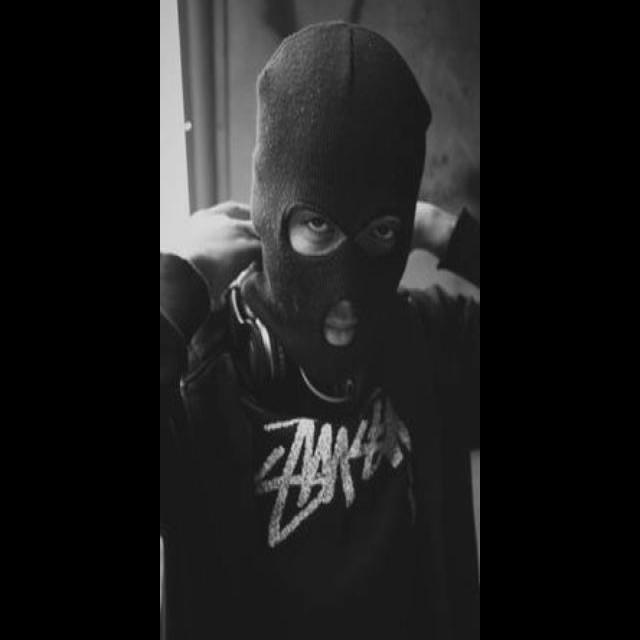6_pasamontana: (250, 18, 432, 402)
